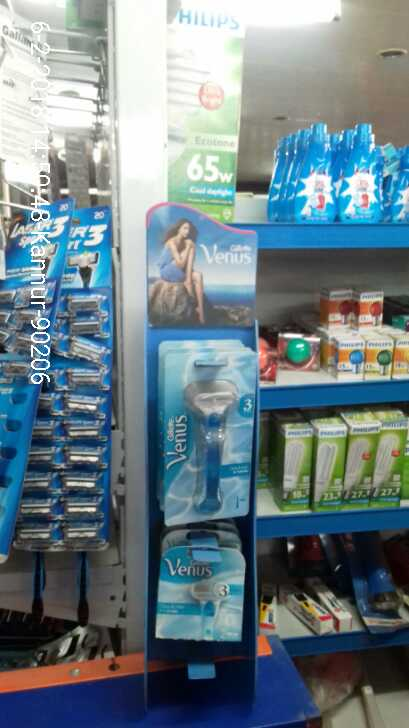venus: (156, 345, 252, 528), (154, 543, 242, 647)
